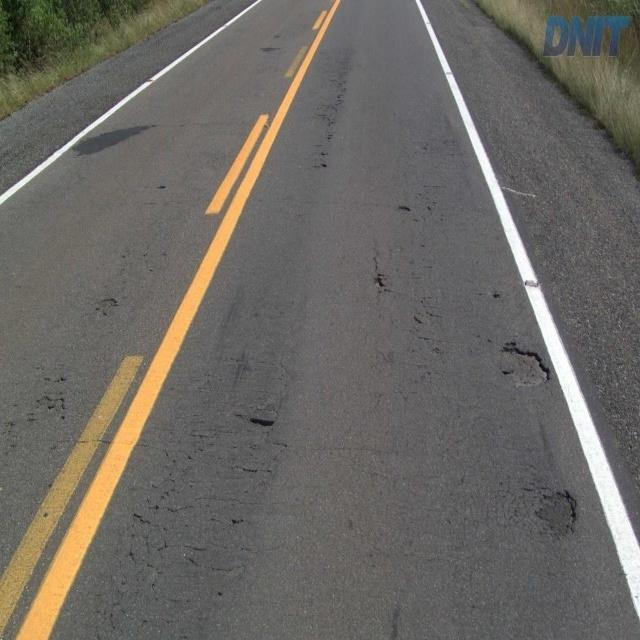pothole: (490, 340, 554, 396), (530, 475, 578, 541), (244, 413, 282, 434), (370, 264, 389, 299)
